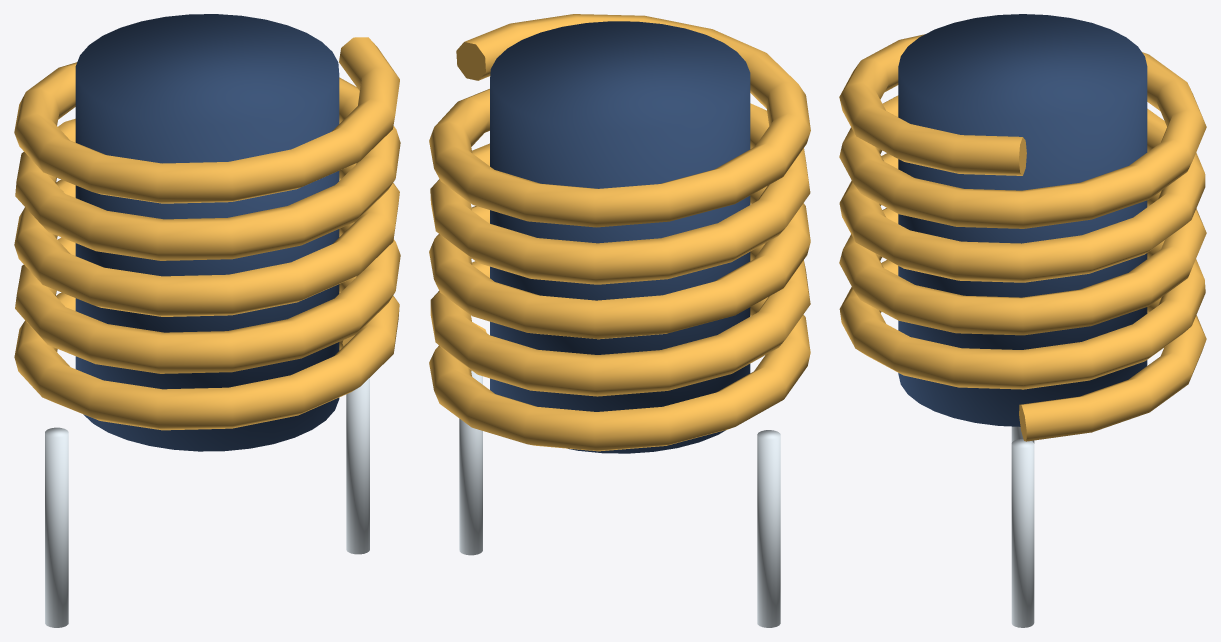
Rendered from electronic-inductor-lite.glb.
The picture shows the model from 3 angles, left to right: view 1: azimuth 30°, elevation 25°; view 2: azimuth 150°, elevation 25°; view 3: azimuth 270°, elevation 25°; orthographic projection. The views are drawn at different scales.
Parts seen in each view (by area): view 1: Core; view 2: Core; view 3: Core.
Part boxes in pixels (bbox=[...]): Core: bbox=[14, 14, 400, 627]; Core: bbox=[429, 14, 810, 627]; Core: bbox=[839, 14, 1206, 627].
Size of the model in its own units: 0.6498 by 0.95 by 0.6496.
